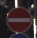No entry: (5, 6, 32, 33)
